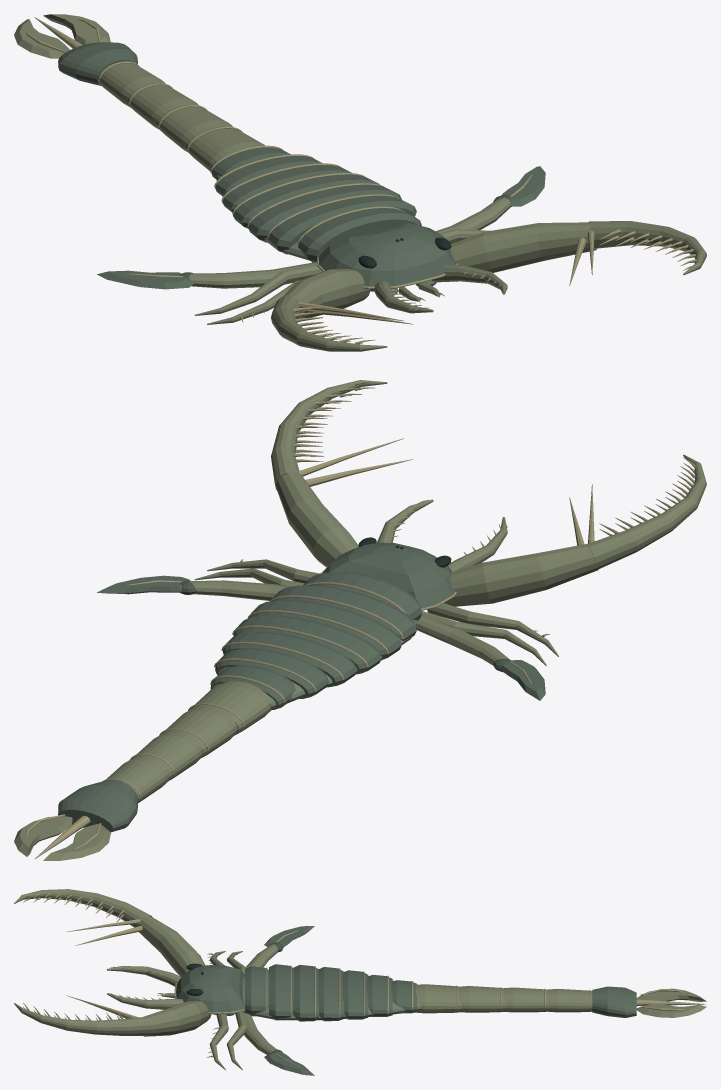
3 renders of one model, top to bottom at view 1: azimuth 30°, elevation 25°; view 2: azimuth 150°, elevation 25°; view 3: azimuth 270°, elevation 25°, orthographic. The views are drawn at different scales.
Parts seen in each view (by area): view 1: Megalograptus-limb, Megalograptus-dorsal, Megalograptus-edge; view 2: Megalograptus-limb, Megalograptus-dorsal, Megalograptus-edge; view 3: Megalograptus-limb, Megalograptus-dorsal, Megalograptus-edge, Megalograptus-ventral.
Boxes of the visible parts, x1,y1,x2,y2 form: Megalograptus-limb: [14, 14, 706, 351]; Megalograptus-dorsal: [58, 42, 545, 289]; Megalograptus-edge: [26, 17, 696, 344]; Megalograptus-limb: [14, 380, 706, 860]; Megalograptus-dorsal: [58, 542, 545, 832]; Megalograptus-edge: [26, 381, 696, 858]; Megalograptus-limb: [14, 889, 706, 1070]; Megalograptus-dorsal: [176, 926, 636, 1075]; Megalograptus-edge: [23, 893, 706, 1066]; Megalograptus-ventral: [214, 976, 421, 1020].
Size of the model in its own units: 0.5 by 0.0938 by 0.9777.
